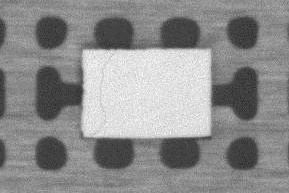DIE_CRACK: (91, 53, 114, 136)
